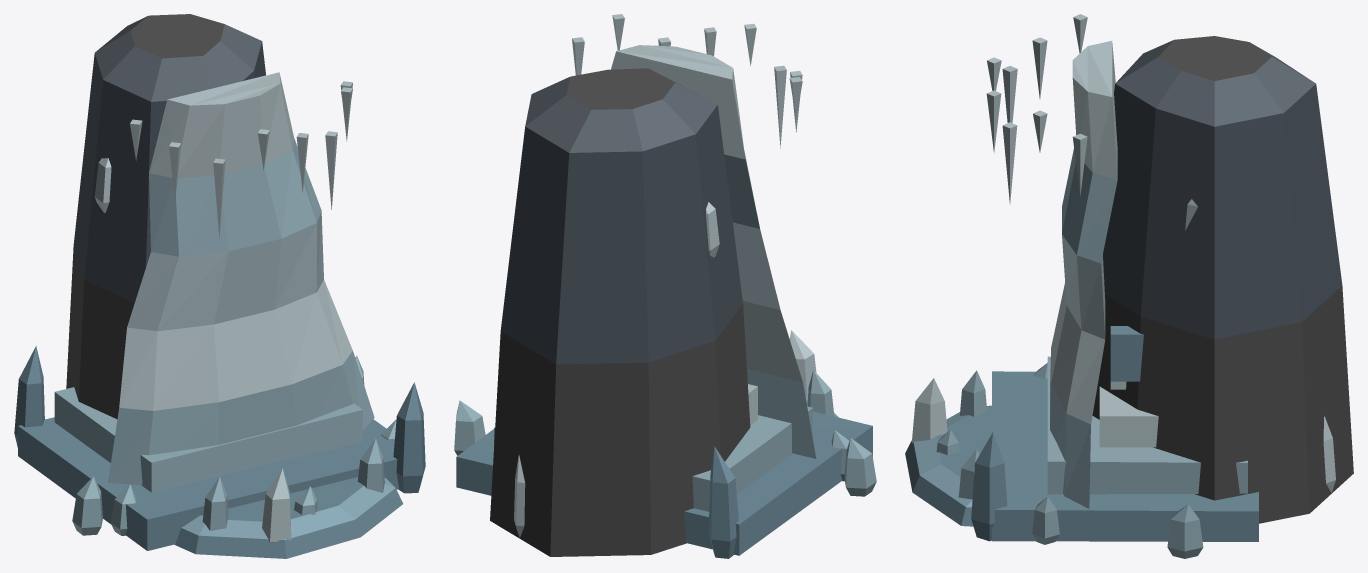
The model's file is frozen.glb.
3 renders of one model, left to right at view 1: azimuth 30°, elevation 25°; view 2: azimuth 150°, elevation 25°; view 3: azimuth 270°, elevation 25°, orthographic. The views are drawn at different scales.
Parts seen in each view (by area): view 1: frozen_frozen_falls_a, frozen_ice_throne_a; view 2: frozen_frozen_falls_a, frozen_ice_throne_a; view 3: frozen_frozen_falls_a, frozen_ice_throne_a.
Part boxes in pixels (x1,y1,x2,y2): frozen_frozen_falls_a: [66, 14, 403, 558]; frozen_ice_throne_a: [14, 158, 425, 550]; frozen_frozen_falls_a: [490, 14, 849, 556]; frozen_ice_throne_a: [454, 202, 876, 558]; frozen_frozen_falls_a: [905, 14, 1353, 544]; frozen_ice_throne_a: [911, 199, 1335, 558].
Size of the model in its own units: 2.78 by 3.1 by 3.03.
